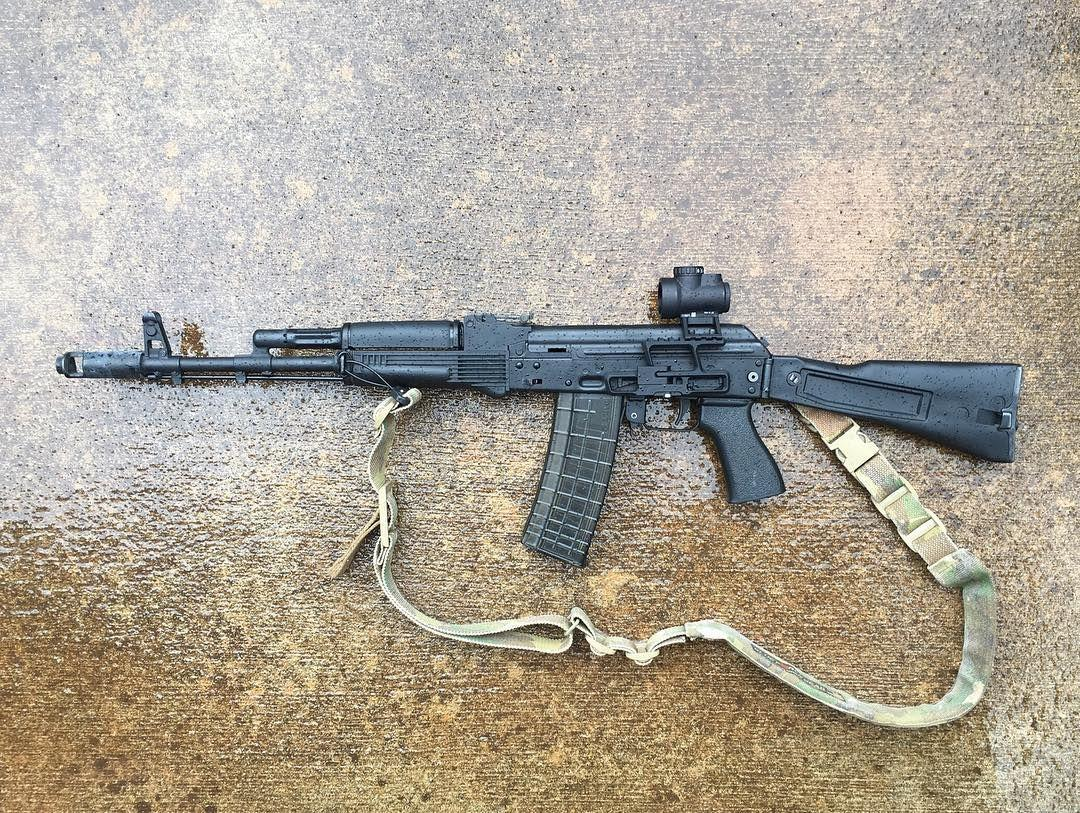larga: (54, 267, 1025, 571)
